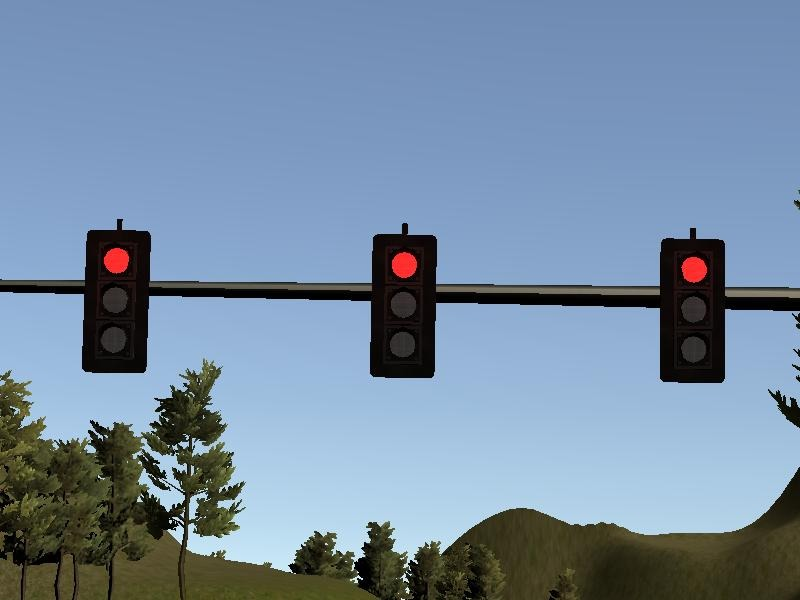red: (83, 229, 151, 375), (659, 238, 727, 384), (368, 233, 436, 379)
